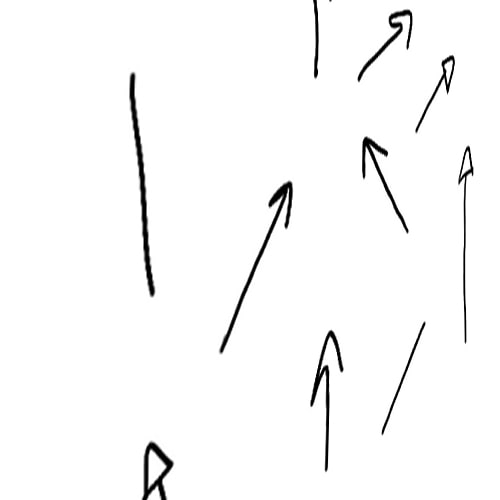arrow: (216, 180, 295, 349), (308, 328, 345, 475), (357, 137, 408, 234), (350, 7, 413, 77), (411, 54, 455, 130), (458, 145, 474, 344)
arrownohead: (121, 71, 160, 295), (381, 320, 426, 434), (311, 1, 324, 77)
